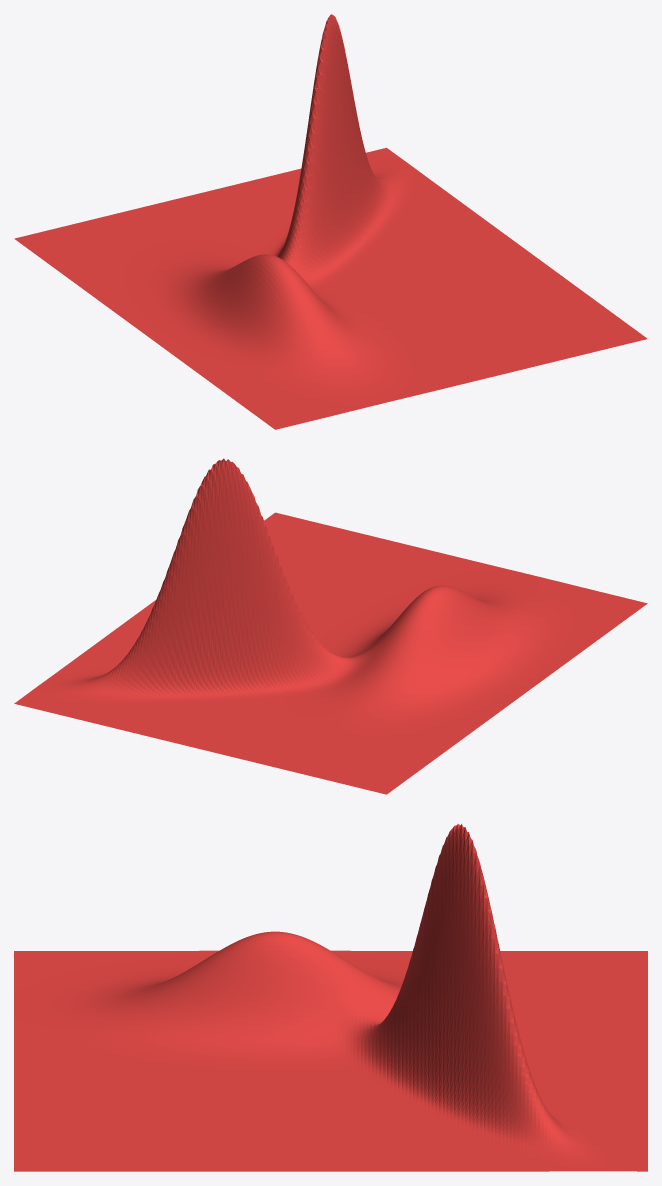
The model's file is gaumix.glb.
3 renders of one model, top to bottom at view 1: azimuth 30°, elevation 25°; view 2: azimuth 150°, elevation 25°; view 3: azimuth 270°, elevation 25°, orthographic. The views are drawn at different scales.
Visible parts, largest first — view 1: gaumix; view 2: gaumix; view 3: gaumix.
Boxes of the visible parts, x1,y1,x2,y2 form: gaumix: (14, 14, 647, 429); gaumix: (14, 458, 647, 794); gaumix: (14, 824, 647, 1171).
Size of the model in its own units: 14 by 7.96 by 17.
